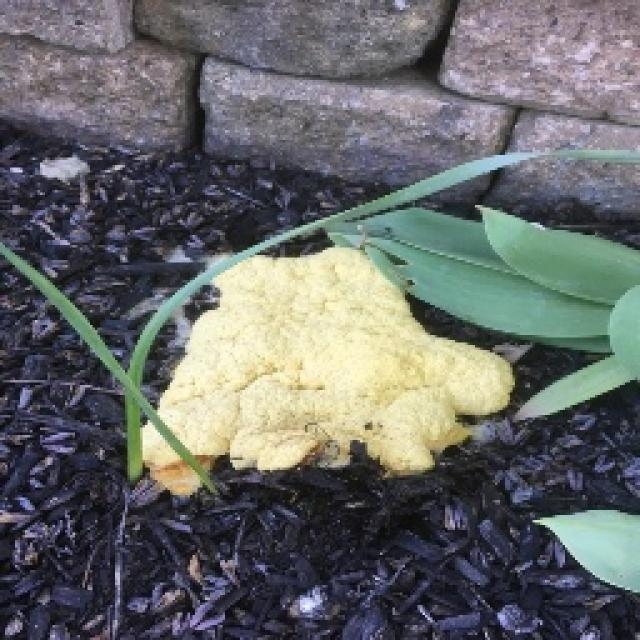Dog_vomit_slime_mold: (134, 200, 526, 502)
